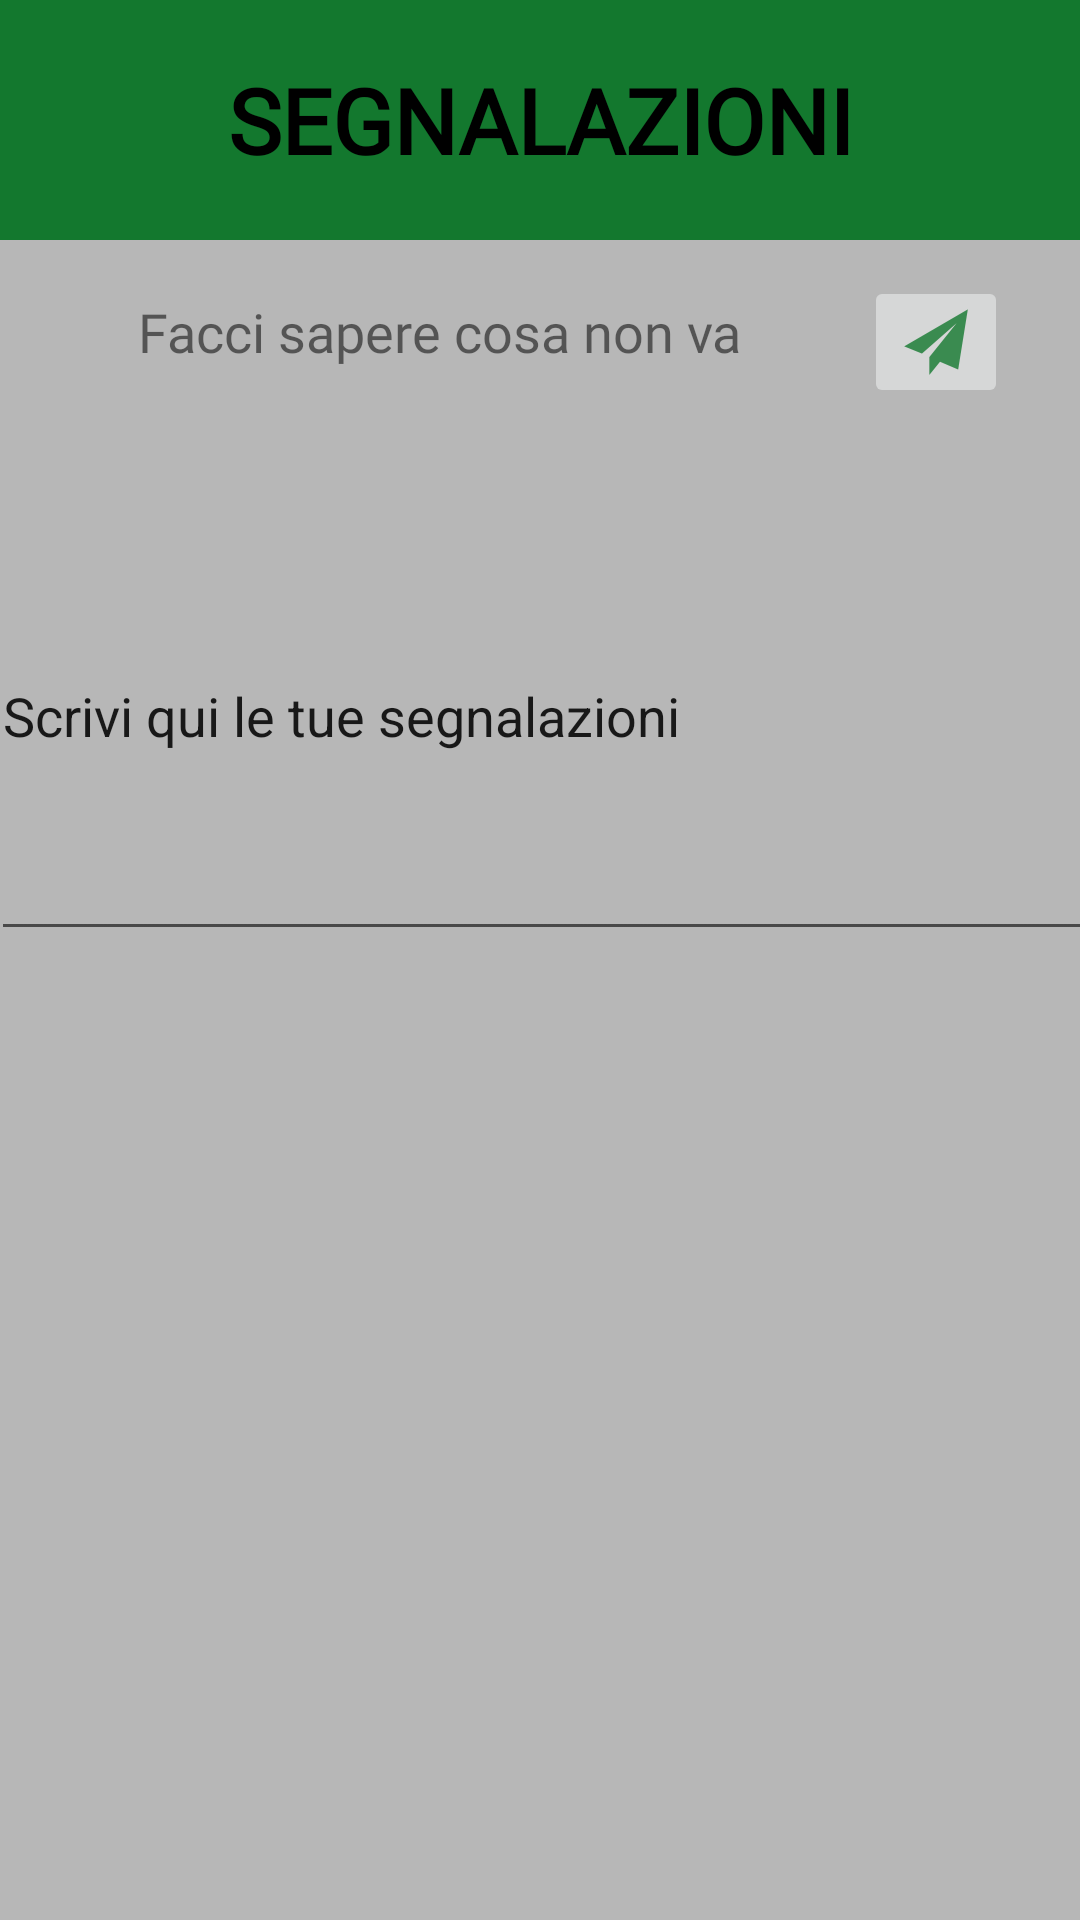

Named icons in this screenshot (1080w x 1920h) and their bounding boxes, (x1, y1, x2, y2):
send: (876, 294, 996, 390)
